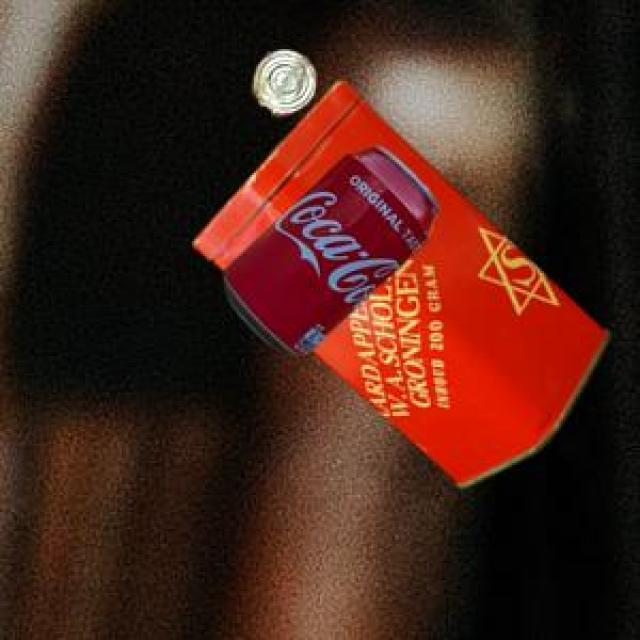logam: (191, 78, 607, 485), (221, 144, 434, 353), (251, 46, 313, 112)
